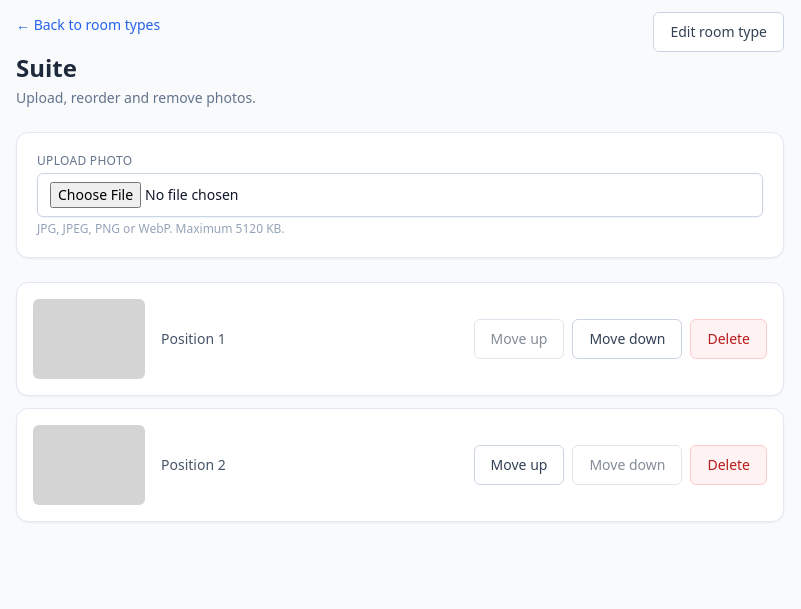
Test: Staff room type images page › moves an image down and swaps sort orders
The width and height of the screenshot is (801, 609).
Step 1. Click the 1st button "Move down" → (627, 339), box left=572, top=319, right=682, bottom=359
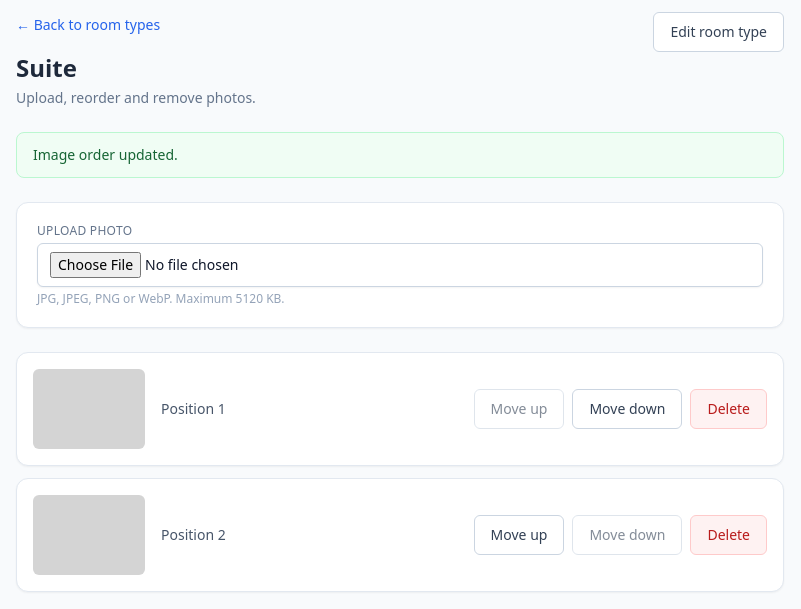
Expected: the text "Image order updated." is shown, left=16, top=132, right=784, bottom=178
